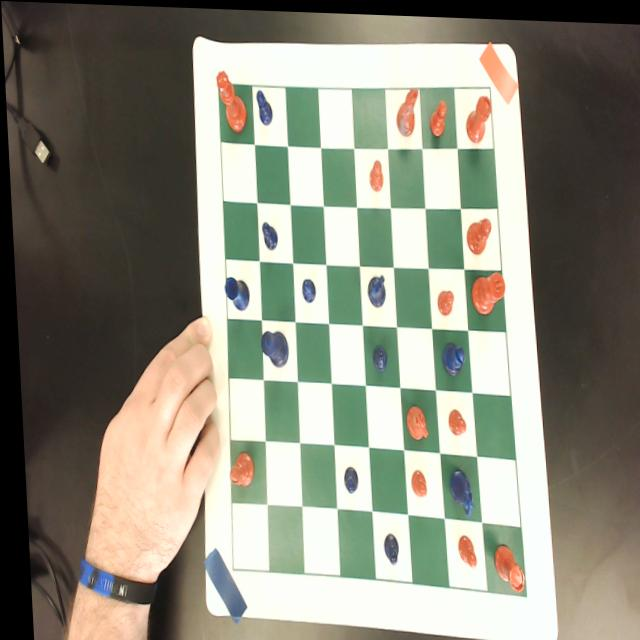B: (436, 338, 461, 373)
K: (256, 328, 285, 366)
N: (442, 463, 469, 514), (363, 269, 384, 306)
P: (253, 86, 271, 123), (376, 528, 394, 563), (336, 461, 354, 491), (258, 218, 275, 247), (368, 340, 383, 368), (297, 274, 312, 301)
R: (220, 273, 245, 307)
b: (462, 213, 490, 253), (223, 447, 249, 486)
k: (466, 265, 502, 312)
n: (393, 84, 420, 135), (400, 399, 423, 439)
p: (425, 94, 447, 135), (450, 529, 471, 565), (441, 404, 463, 433), (364, 156, 382, 190), (404, 465, 422, 494), (432, 286, 451, 312)
q: (214, 68, 247, 131)
r: (485, 537, 519, 590), (462, 88, 492, 139)
